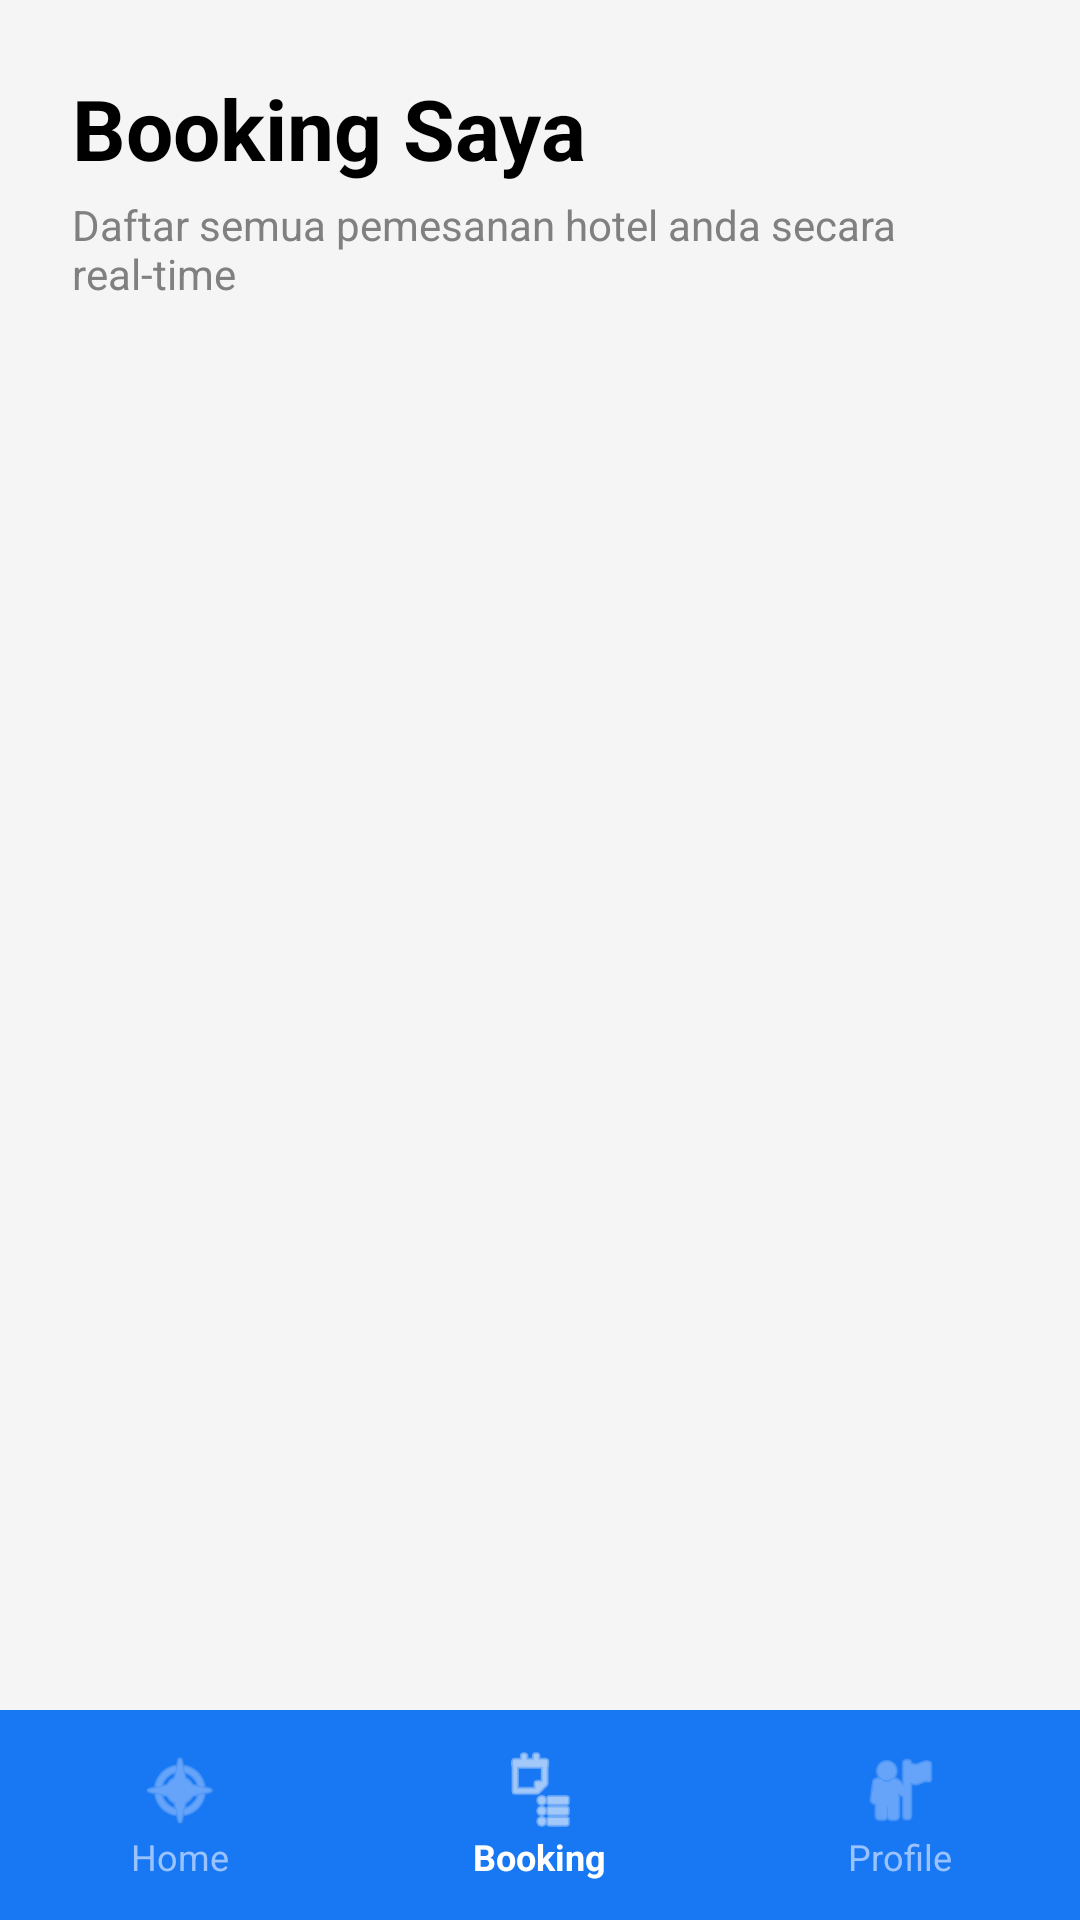

Named icons in this screenshot (1080*1920) and their centers, (x=x, y=y):
agenda: (x=540, y=1789)
